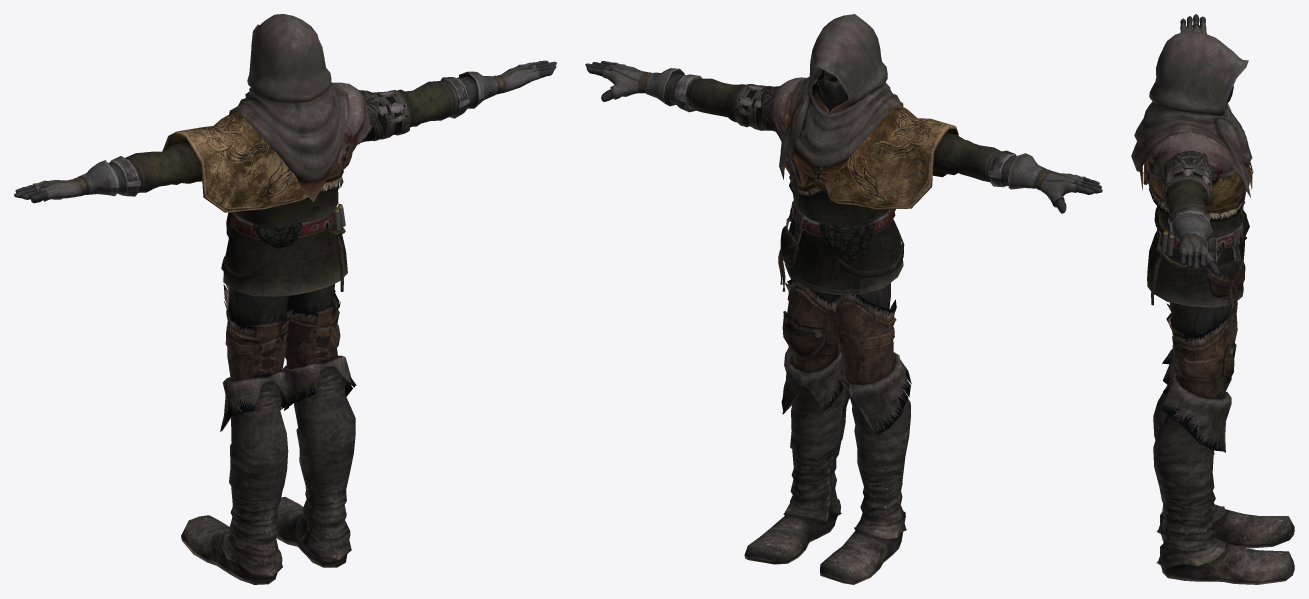
The model's file is halfling_leather.fbx.
3 renders of one model, left to right at view 1: azimuth 30°, elevation 25°; view 2: azimuth 150°, elevation 25°; view 3: azimuth 270°, elevation 25°, orthographic. The views are drawn at different scales.
Visible parts, largest first — view 1: hmm65:mesh02, hmm65:mesh03, hmm65:mesh6, hmm65:mesh13, hmm65:mesh3, hmm65:mesh11, hmm65:mesh2, hmm65:mesh0, hmm65:mesh7, hmm65:mesh5; view 2: hmm65:mesh02, hmm65:mesh03, hmm65:mesh6, hmm65:mesh13, hmm65:mesh3, hmm65:mesh11, hmm65:mesh0, hmm65:mesh2, hmm65:mesh7, hmm65:mesh5; view 3: hmm65:mesh02, hmm65:mesh03, hmm65:mesh3, hmm65:mesh13, hmm65:mesh2, hmm65:mesh5, hmm65:mesh7, hmm65:mesh6, hmm65:mesh0, hmm65:mesh11, hmm65:mesh4.
Part boxes in pixels (<box>): hmm65:mesh02: <box>181,284,356,584</box>; hmm65:mesh03: <box>229,14,348,201</box>; hmm65:mesh6: <box>162,111,355,212</box>; hmm65:mesh13: <box>125,80,457,226</box>; hmm65:mesh3: <box>223,224,347,296</box>; hmm65:mesh11: <box>77,71,498,196</box>; hmm65:mesh2: <box>226,90,410,291</box>; hmm65:mesh0: <box>14,60,556,203</box>; hmm65:mesh7: <box>221,135,357,280</box>; hmm65:mesh5: <box>333,82,371,144</box>; hmm65:mesh02: <box>744,278,911,584</box>; hmm65:mesh03: <box>779,14,903,192</box>; hmm65:mesh6: <box>780,105,958,209</box>; hmm65:mesh13: <box>686,78,1001,225</box>; hmm65:mesh3: <box>784,218,903,294</box>; hmm65:mesh11: <box>644,68,1046,189</box>; hmm65:mesh0: <box>585,61,1102,213</box>; hmm65:mesh2: <box>734,84,895,291</box>; hmm65:mesh7: <box>780,134,904,282</box>; hmm65:mesh5: <box>767,77,818,141</box>; hmm65:mesh02: <box>1153,301,1294,584</box>; hmm65:mesh03: <box>1131,31,1253,197</box>; hmm65:mesh3: <box>1147,231,1243,307</box>; hmm65:mesh13: <box>1146,150,1243,237</box>; hmm65:mesh2: <box>1151,166,1249,322</box>; hmm65:mesh5: <box>1149,132,1237,178</box>; hmm65:mesh7: <box>1146,156,1246,297</box>; hmm65:mesh6: <box>1143,103,1249,213</box>; hmm65:mesh0: <box>1179,14,1219,275</box>; hmm65:mesh11: <box>1168,206,1212,243</box>; hmm65:mesh4: <box>1145,163,1244,221</box>.
Bounding box in the file's own units: 3.69 × 3.56 × 1.01.
